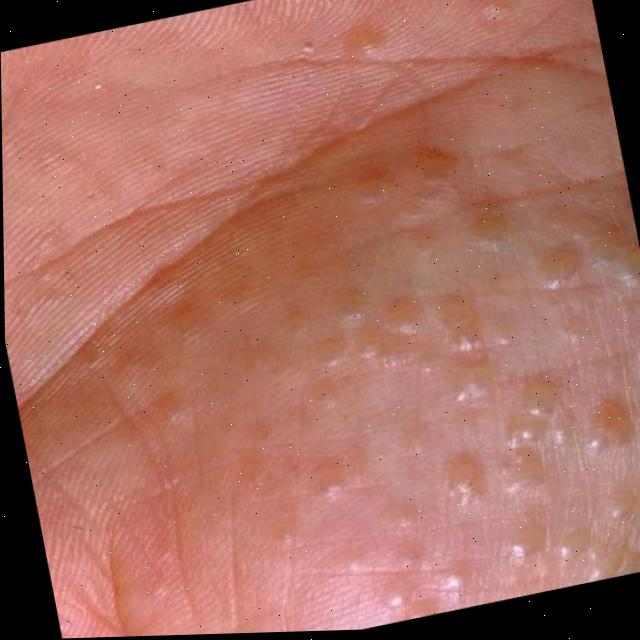Eczema: (129, 136, 640, 636)
